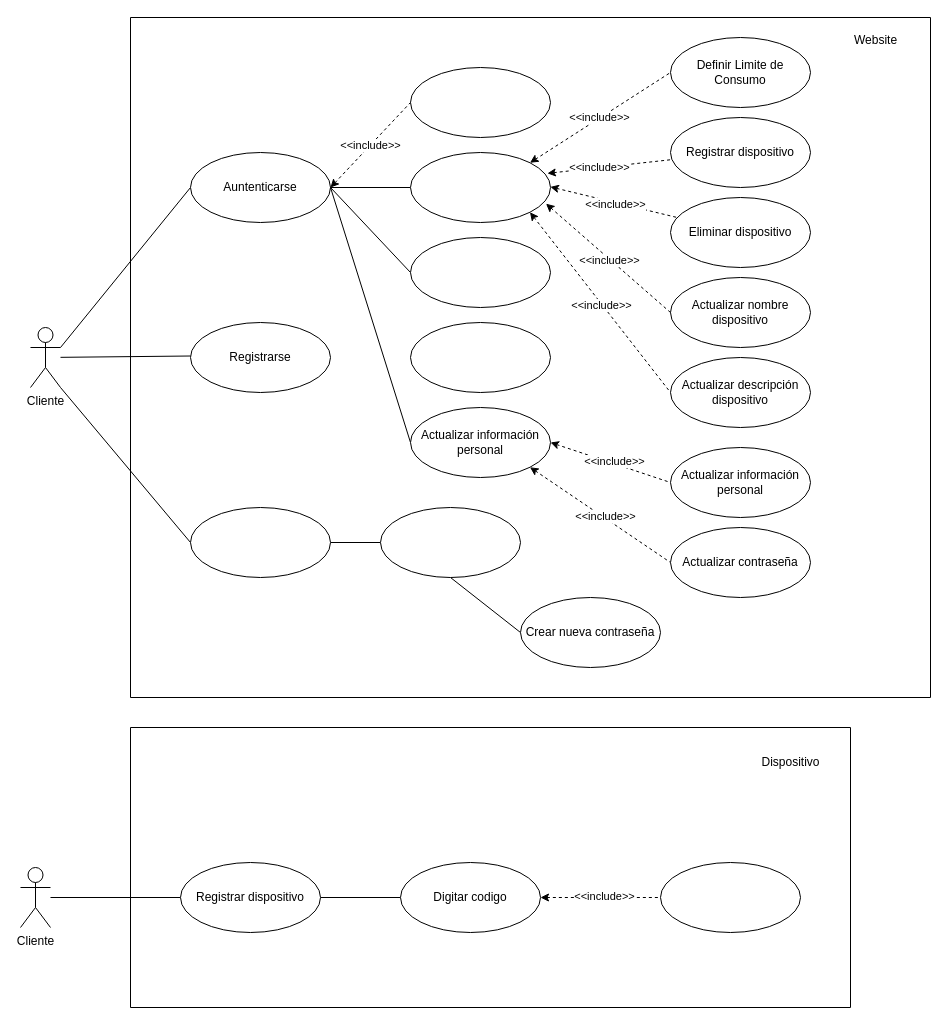
This 948x1025 diagram has some shape labels left out. Here are the shapes that lost their labels. From the top down, the centre of each, then its label:
point 480,102: Cerrar sesion
point 480,187: Administrar dispositivos
point 480,272: Visualizar dashboard
point 480,357: Ajustar notificiaciones
point 260,542: Recuperar contraseña
point 450,542: Recibir correo
point 730,897: Cambiar nombre del dispositivo
